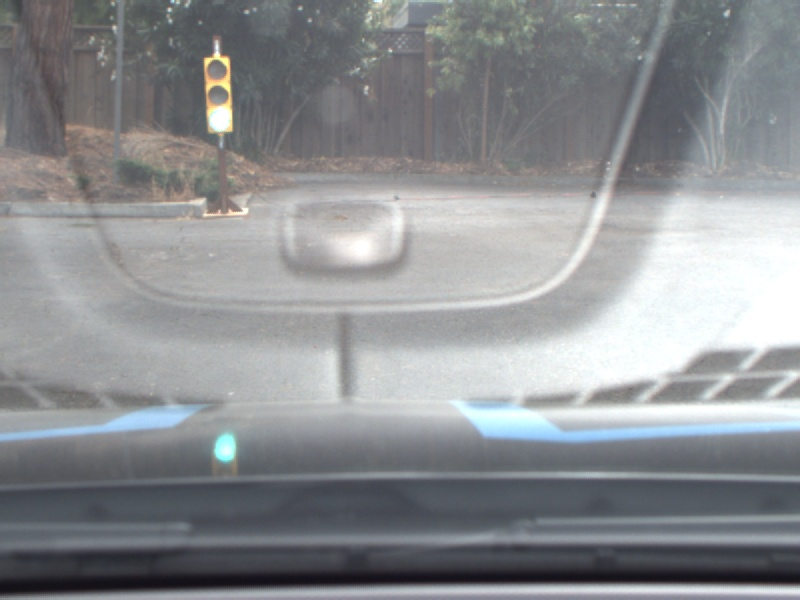green: (202, 53, 240, 138)
